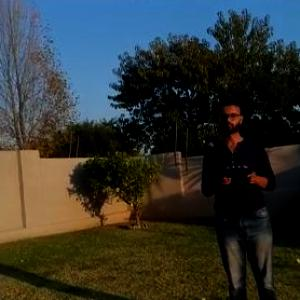follow: (191, 91, 281, 299)
